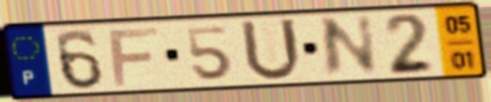2: (380, 11, 437, 78)
5: (183, 24, 235, 82)
6: (53, 27, 107, 92)
F: (106, 25, 162, 89)
N: (318, 13, 381, 81)
U: (237, 16, 305, 85)
